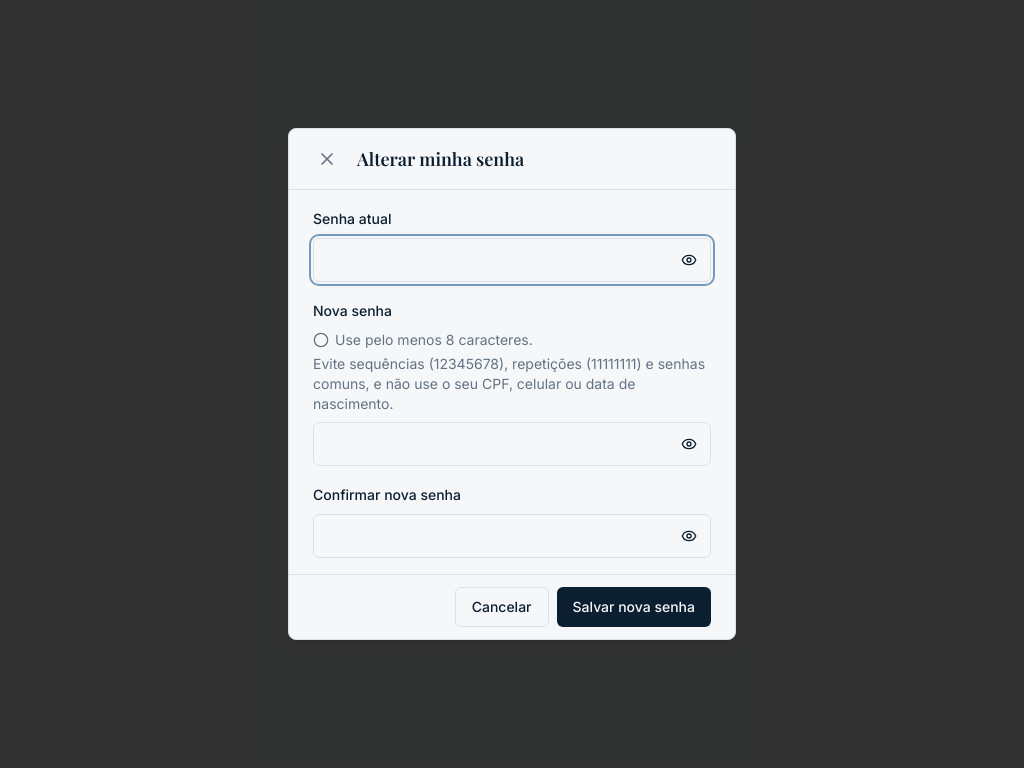
Scenario: T3 › UX-18: o bloqueio com {N}, com o foco e sem role=alert; some depois de {N} minutos
Later steps or results of the test are not shown.
Step 1. Type "Caminho2024" into the password field labelled "Senha atual" → (512, 260), box [313, 238, 711, 282]
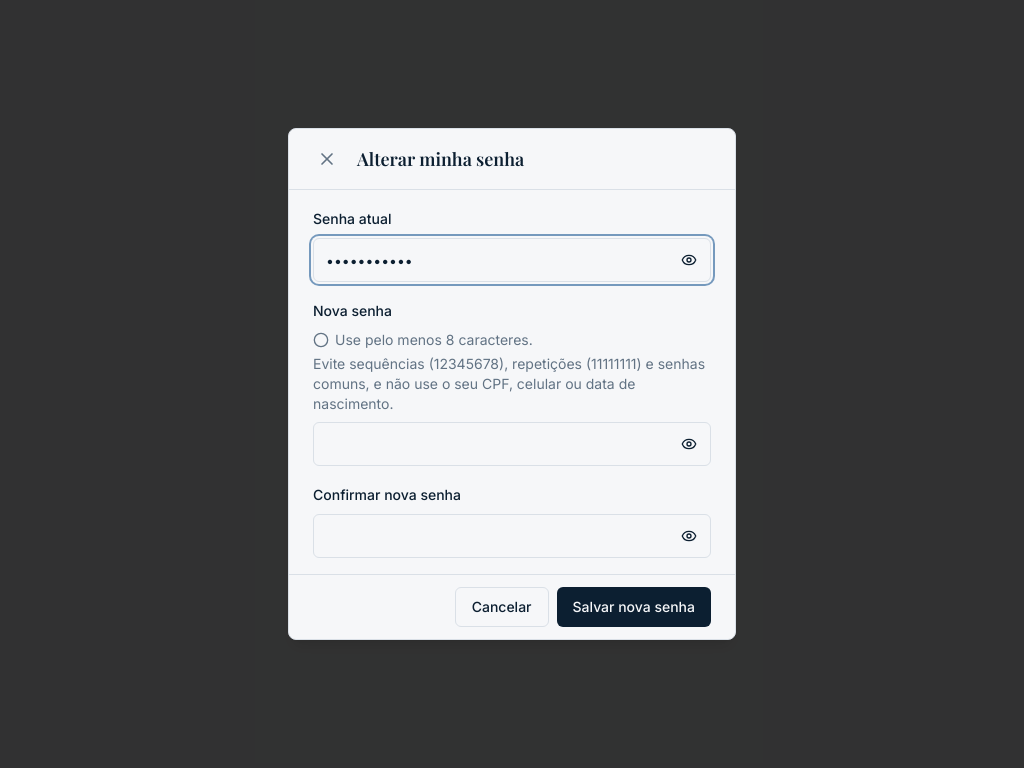
Step 2. Type "Abacate7" into the password field labelled "Nova senha" → (512, 444), box [313, 422, 711, 466]
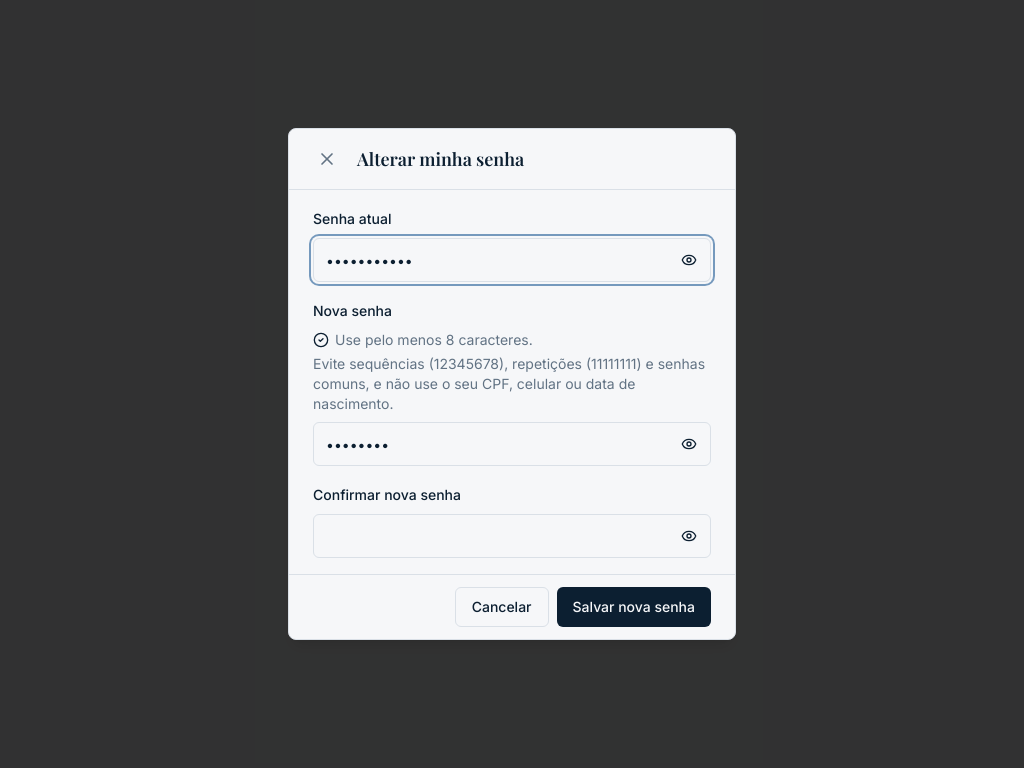
Step 3. Type "Abacate7" into the password field labelled "Confirmar nova senha" → (512, 536), box [313, 514, 711, 558]
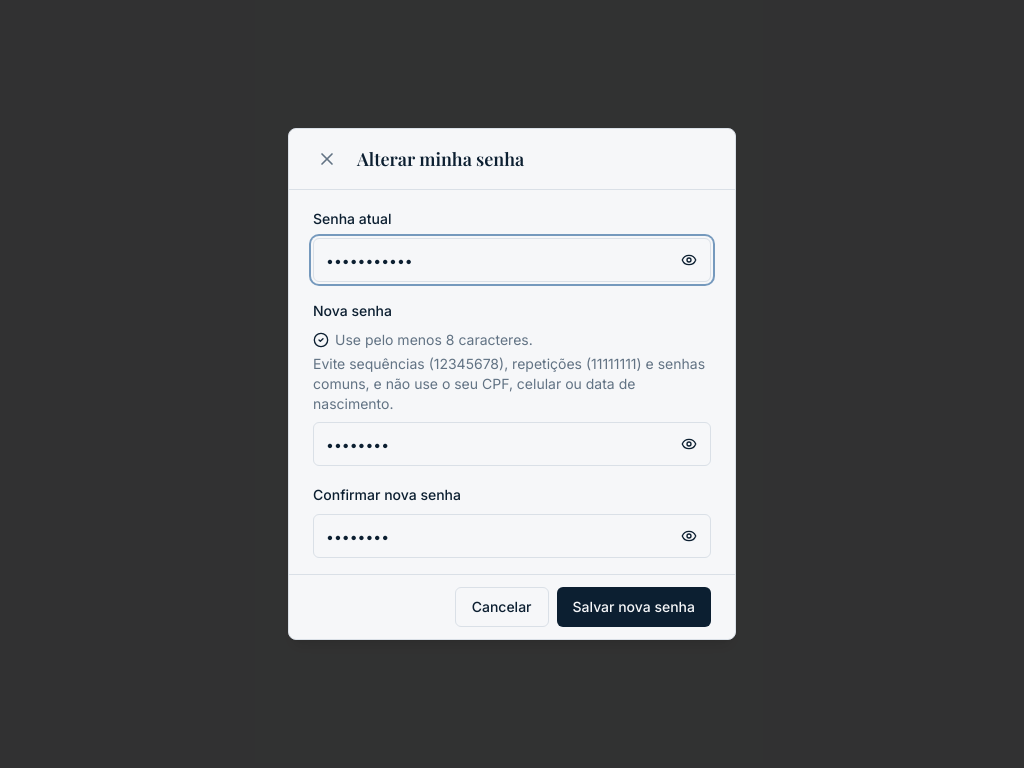
Step 4. Click the button "Salvar nova senha" → (634, 607), box [556, 587, 711, 627]
Wait 60000 ms
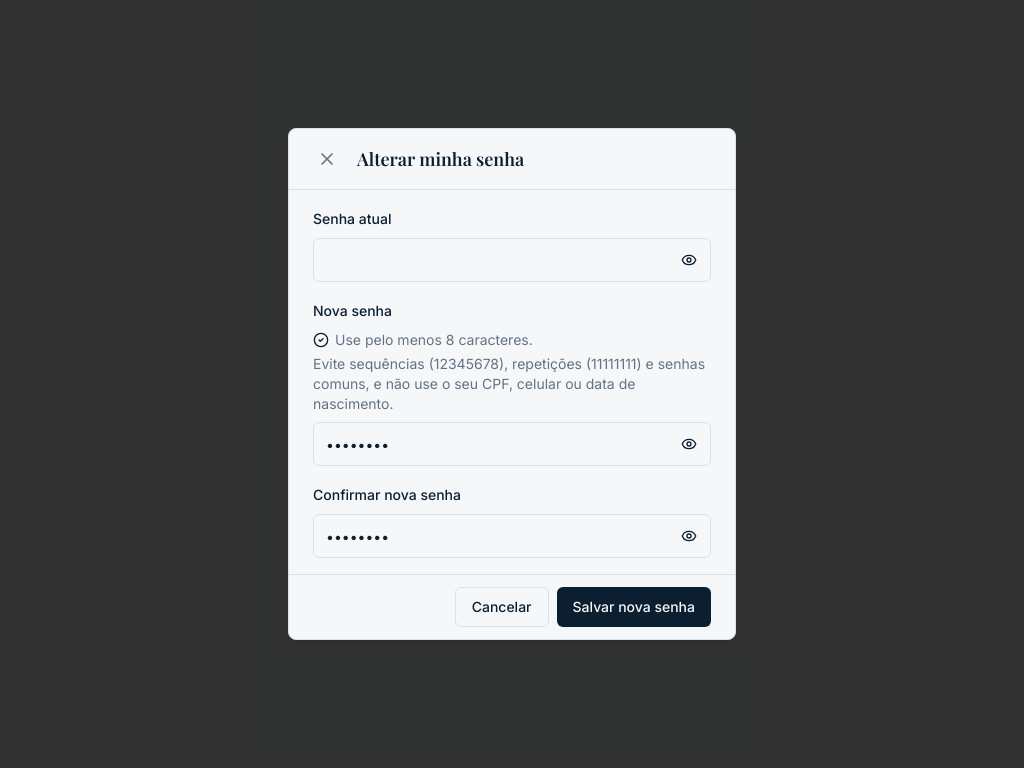
Result: the password field labelled "Senha atual" is empty at [313, 238, 711, 282]
